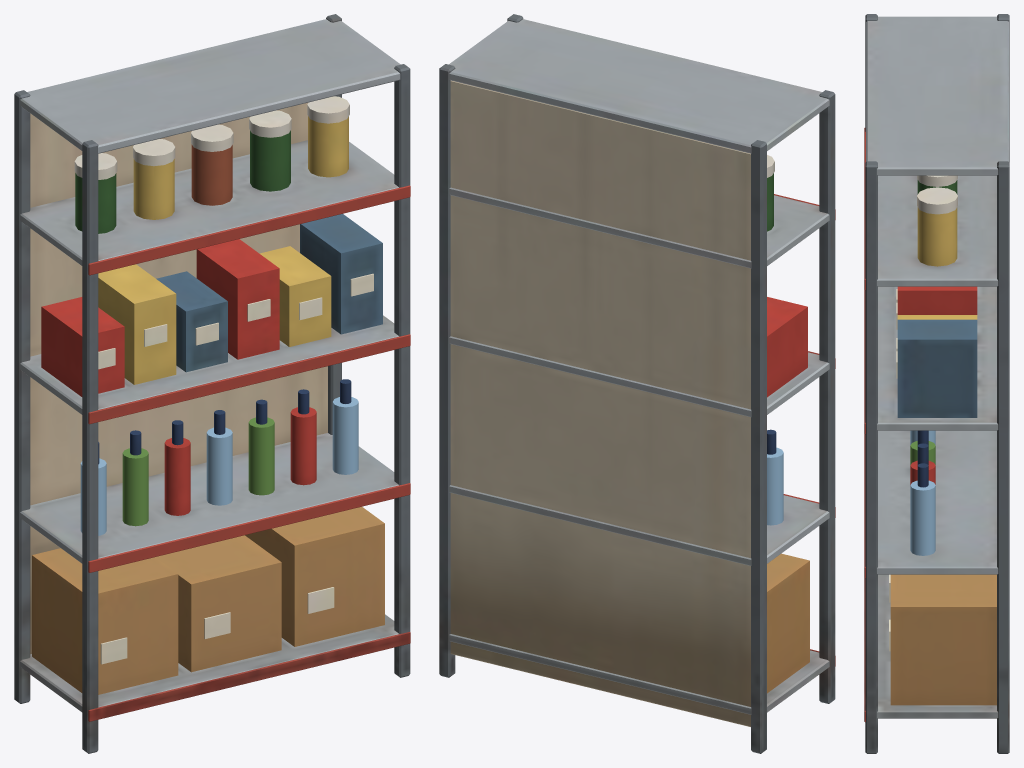
Rendered from shelf_unit.glb.
3 renders of one model, left to right at view 1: azimuth 30°, elevation 25°; view 2: azimuth 150°, elevation 25°; view 3: azimuth 270°, elevation 25°, orthographic. The views are drawn at different scales.
Parts seen in each view (by area): view 1: shelf_unit; view 2: shelf_unit; view 3: shelf_unit.
Part boxes in pixels (x1=…): shelf_unit: x1=14, y1=14, x2=410, y2=753; shelf_unit: x1=439, y1=14, x2=835, y2=753; shelf_unit: x1=864, y1=14, x2=1009, y2=753.
Bounding box in the file's own units: 1 × 1.8 × 0.403.
15 materials, 13 textured.
